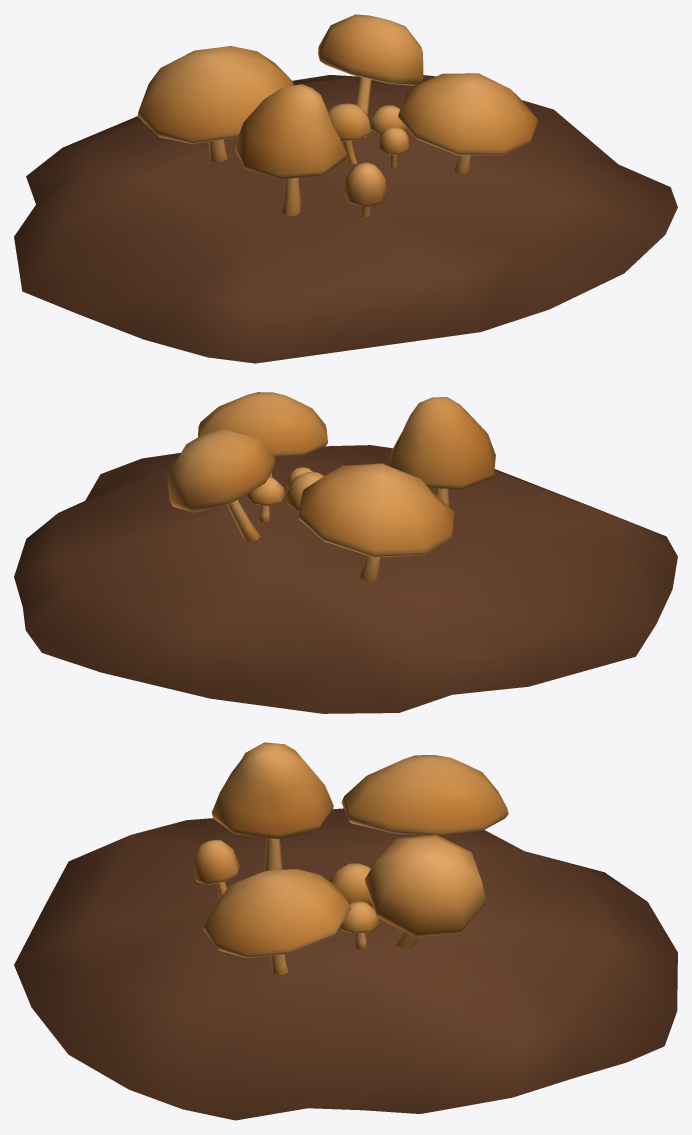
Rendered from SM_PlantSoil_EnokiMushroom_Lv2.fbx.
The picture shows the model from 3 angles, top to bottom: view 1: azimuth 30°, elevation 25°; view 2: azimuth 150°, elevation 25°; view 3: azimuth 270°, elevation 25°; orthographic projection. The views are drawn at different scales.
Parts seen in each view (by area): view 1: SM_PlantSoil_EnokiMushroom_Lv2; view 2: SM_PlantSoil_EnokiMushroom_Lv2; view 3: SM_PlantSoil_EnokiMushroom_Lv2.
Part boxes in pixels (box(x1,y1,x2,y2)): SM_PlantSoil_EnokiMushroom_Lv2: box(14, 14, 677, 363); SM_PlantSoil_EnokiMushroom_Lv2: box(14, 392, 677, 713); SM_PlantSoil_EnokiMushroom_Lv2: box(14, 742, 677, 1120).
Bounding box in the file's own units: 118 × 33.31 × 106.
